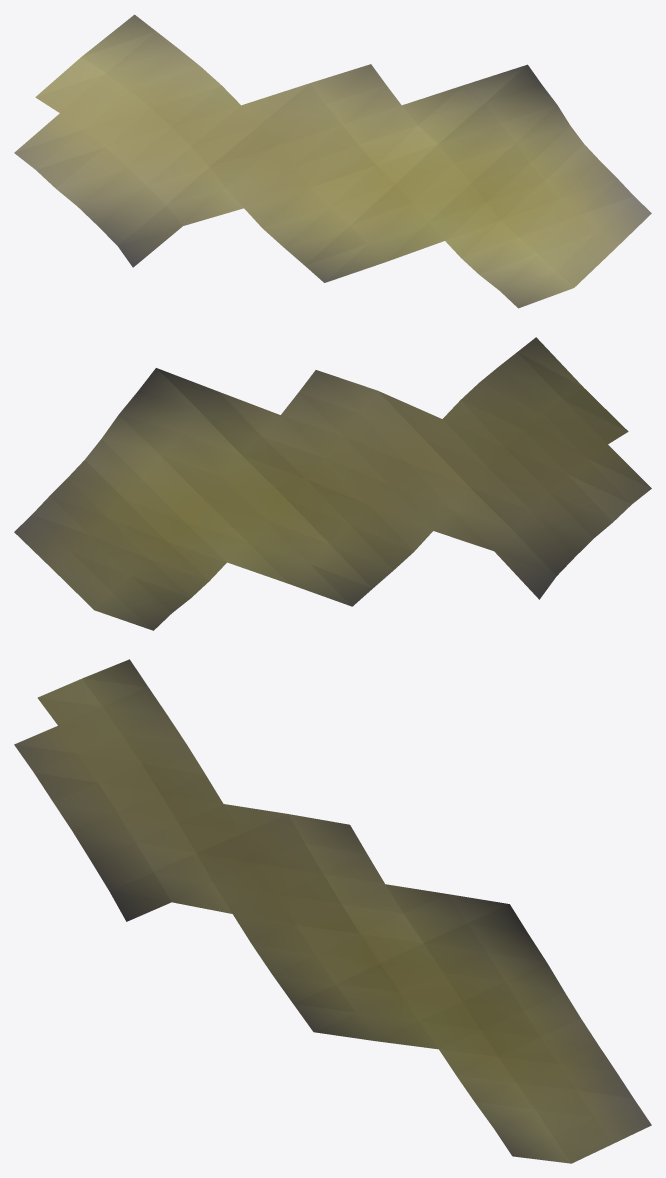
The model's file is entity-floor-marking-25.glb.
The picture shows the model from 3 angles, top to bottom: view 1: azimuth 30°, elevation 25°; view 2: azimuth 150°, elevation 25°; view 3: azimuth 330°, elevation 25°; orthographic projection. The views are drawn at different scales.
Parts seen in each view (by area): view 1: geometry_0; view 2: geometry_0; view 3: geometry_0.
Part boxes in pixels (x1,y1,x2,y2): geometry_0: (14,14,651,308); geometry_0: (14,337,651,630); geometry_0: (14,659,651,1163).
Bounding box in the file's own units: 0.2183 × 0.1267 × 0.0118.
